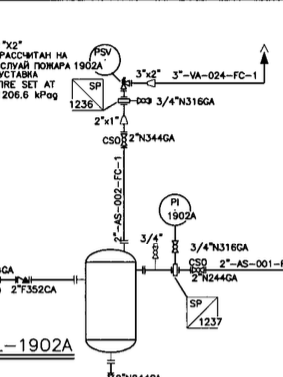Instrument-offset: (72, 40, 122, 77), (156, 189, 201, 229)
